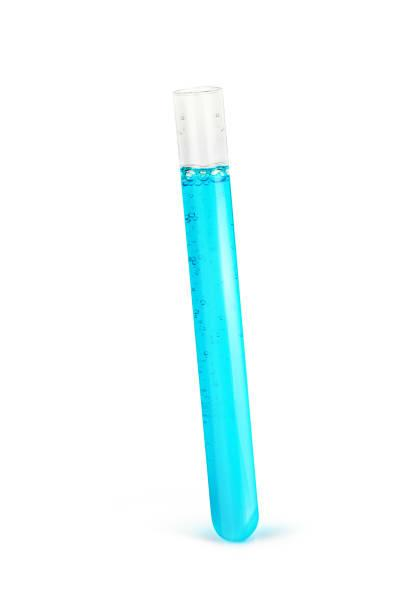Test tube: (166, 68, 280, 545)
